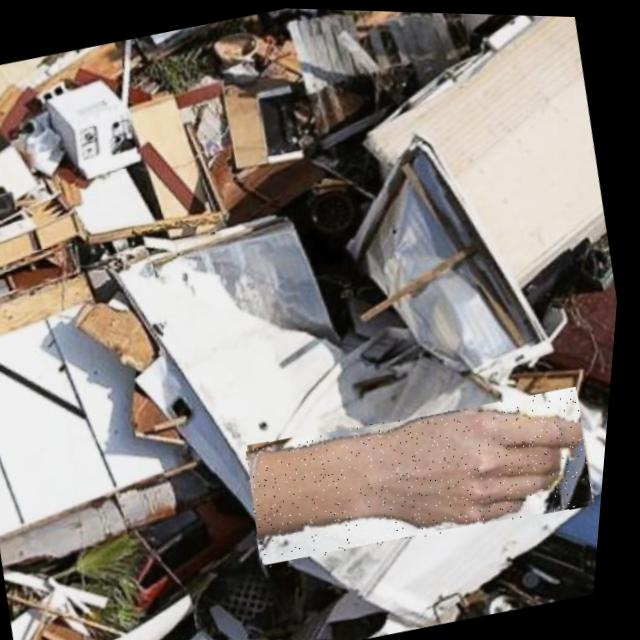Person in Rubble: (244, 372, 610, 574)
